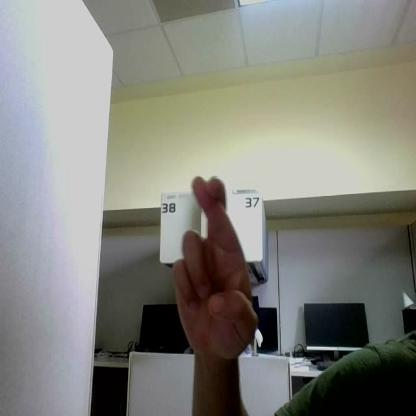R: (172, 176, 257, 358)
